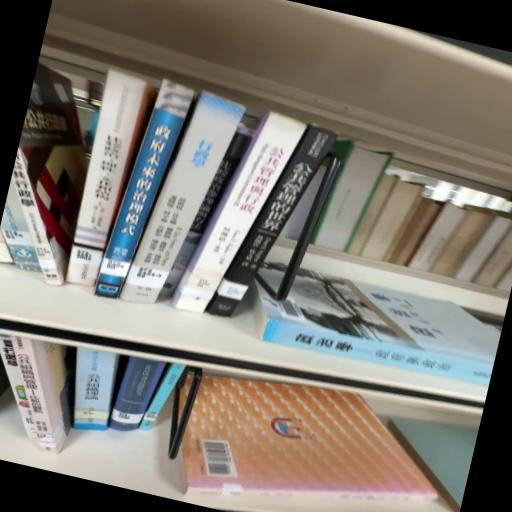flat: (182, 376, 437, 501), (249, 263, 501, 386)
